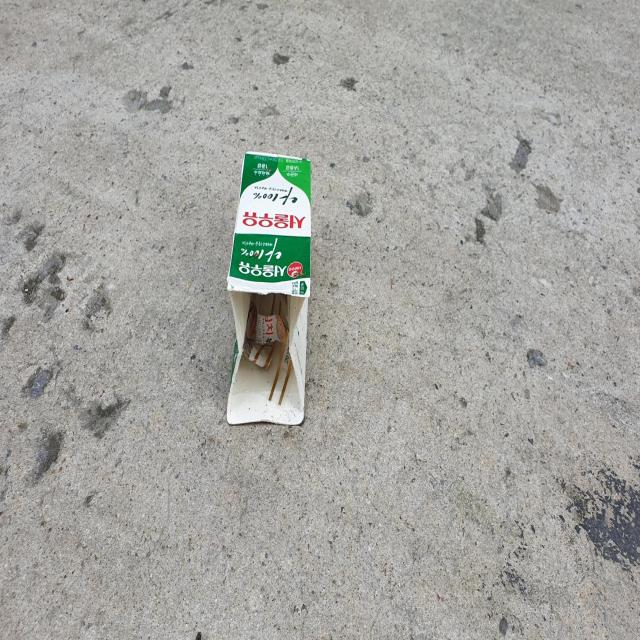paperpack: (227, 152, 311, 423)
